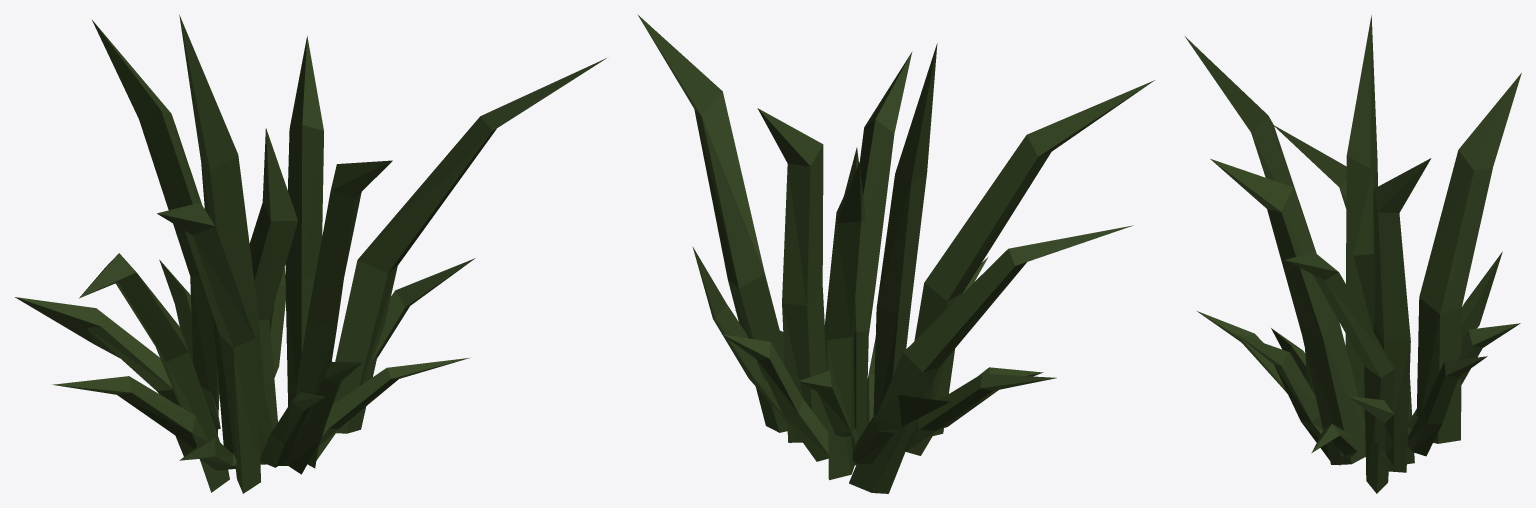
Rendered from grass_group_02.FBX.
3 renders of one model, left to right at view 1: azimuth 30°, elevation 25°; view 2: azimuth 150°, elevation 25°; view 3: azimuth 270°, elevation 25°, orthographic. The views are drawn at different scales.
Visible parts, largest first — view 1: grass_02; view 2: grass_02; view 3: grass_02.
Part boxes in pixels (box(x1,y1,x2,y2)): grass_02: box(15, 15, 606, 493); grass_02: box(637, 14, 1154, 493); grass_02: box(1185, 15, 1521, 493).
Bounding box in the file's own units: 61.03 × 53.96 × 38.3.
